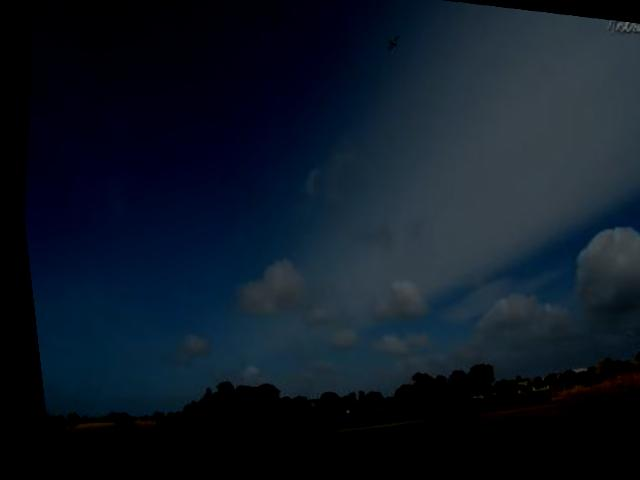uav: (377, 30, 404, 60)
